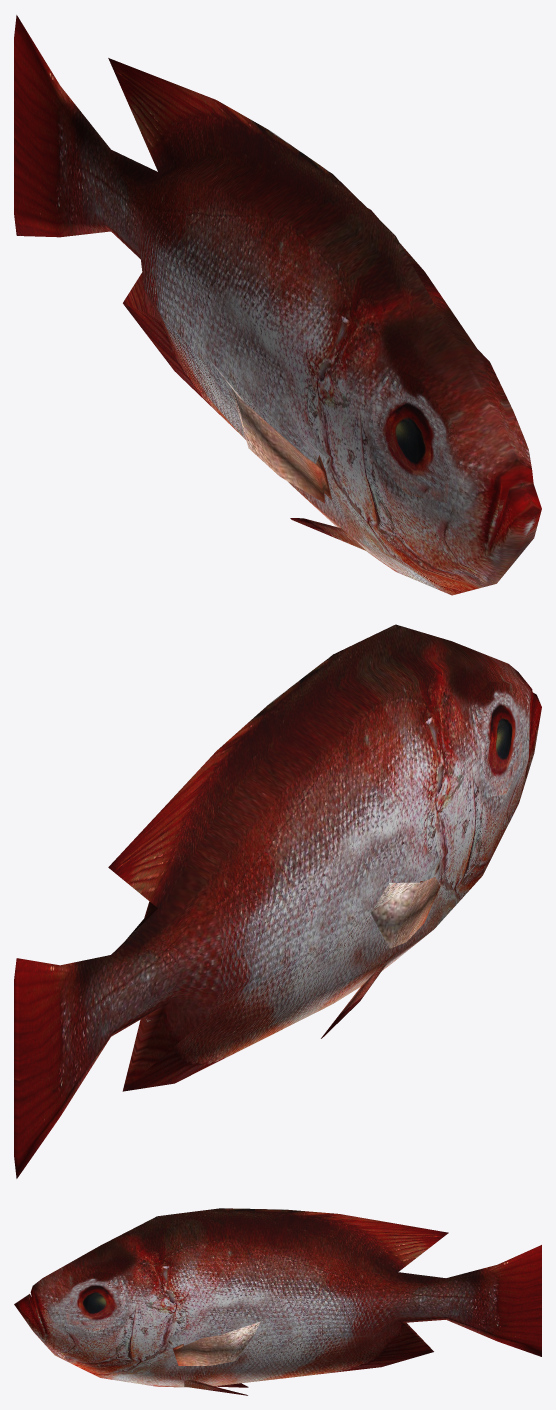
File: redfish.glb
3 views of the same model, one above another, from view 1: azimuth 30°, elevation 25°; view 2: azimuth 150°, elevation 25°; view 3: azimuth 270°, elevation 25° (orthographic). The views are drawn at different scales.
Parts seen in each view (by area): view 1: fishV1_Sphere; view 2: fishV1_Sphere; view 3: fishV1_Sphere.
Part boxes in pixels (x1,y1,x2,y2): fishV1_Sphere: (14, 15, 541, 595); fishV1_Sphere: (14, 624, 541, 1178); fishV1_Sphere: (14, 1208, 541, 1395).
Bounding box in the file's own units: 1.78 × 3.21 × 8.39.
1 material, 1 textured.
